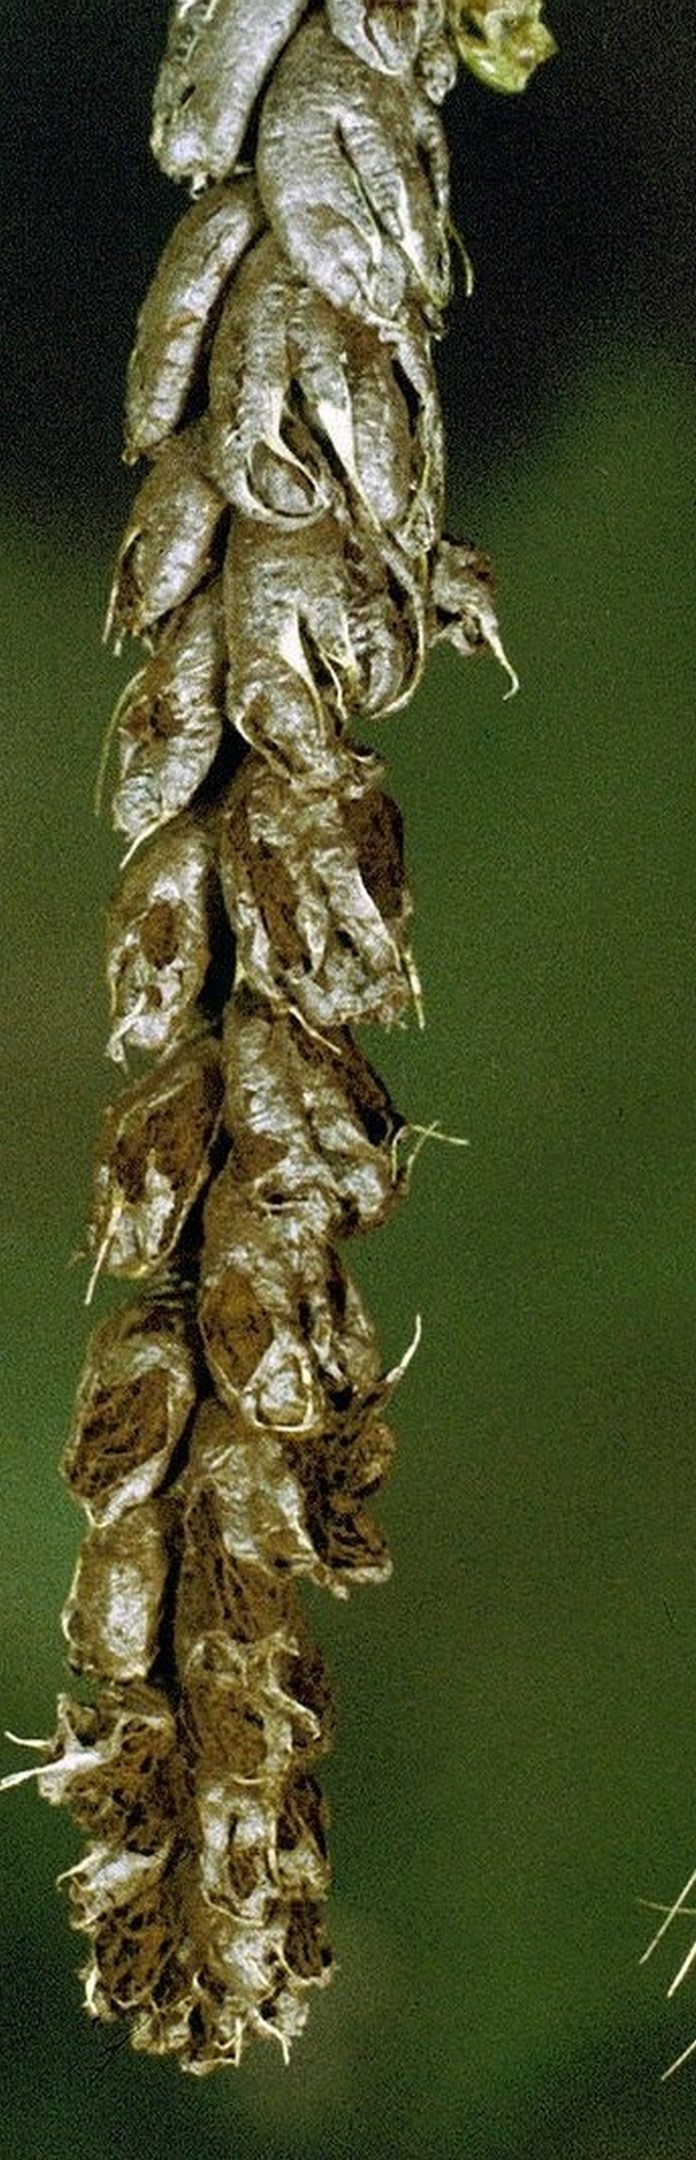Wheat Loose Smut: (44, 1, 547, 2070)
